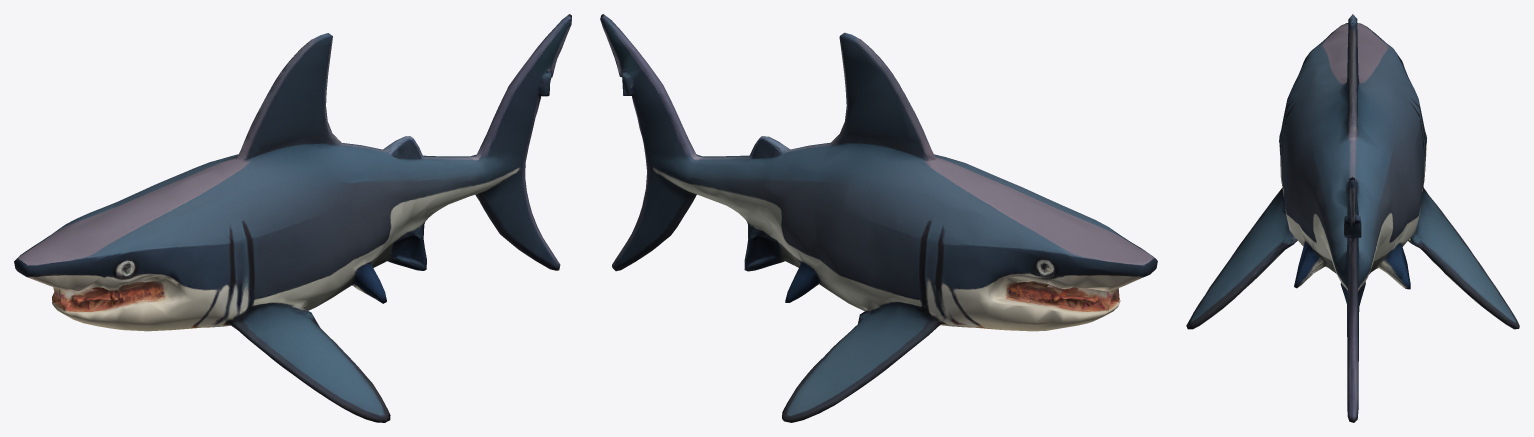
File: shark.glb
3 renders of one model, left to right at view 1: azimuth 30°, elevation 25°; view 2: azimuth 150°, elevation 25°; view 3: azimuth 270°, elevation 25°, orthographic.
Bounding box in the file's own units: 0.9996 × 0.5605 × 0.5258.
1 material, 1 textured.
